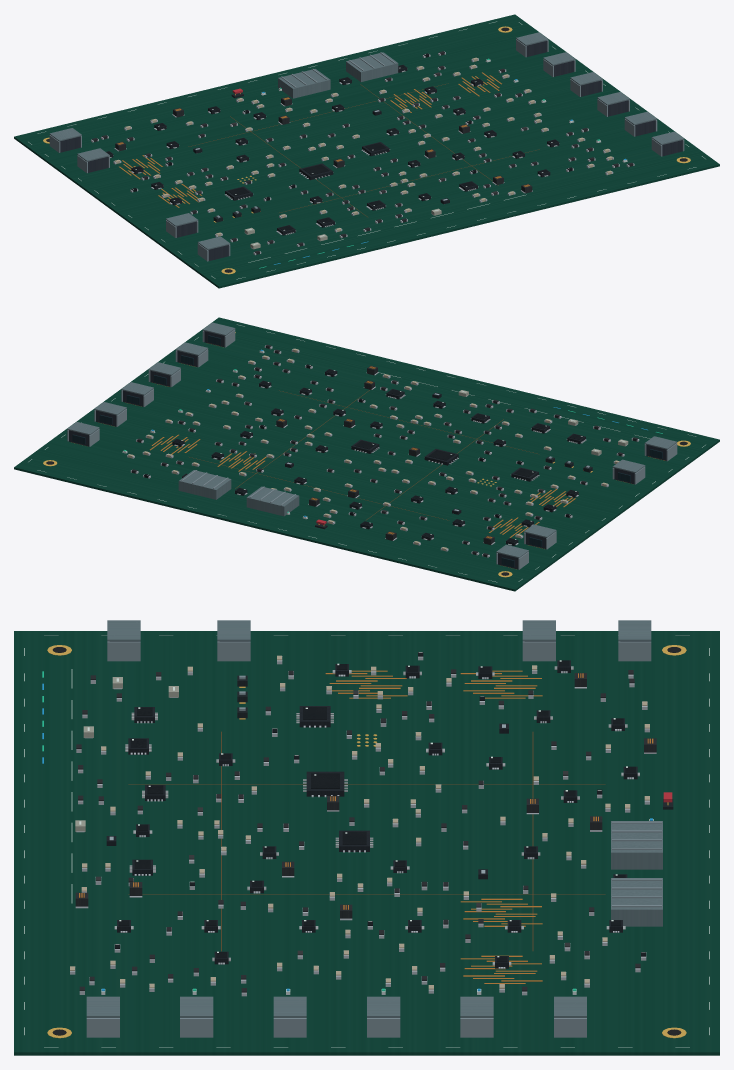
Rendered from 289_L118_AssembledReference.obj.
The picture shows the model from 3 angles, top to bottom: view 1: azimuth 30°, elevation 25°; view 2: azimuth 150°, elevation 25°; view 3: azimuth 270°, elevation 25°; orthographic projection. The views are drawn at different scales.
Parts seen in each view (by area): view 1: 289_L118_AssembledReference; view 2: 289_L118_AssembledReference; view 3: 289_L118_AssembledReference.
Part boxes in pixels (<box>): 289_L118_AssembledReference: <box>14,14,719,288</box>; 289_L118_AssembledReference: <box>14,317,719,591</box>; 289_L118_AssembledReference: <box>14,620,719,1055</box>.
Bounding box in the file's own units: 0.48 × 0.0146 × 0.34.
25 materials, 25 textured.
